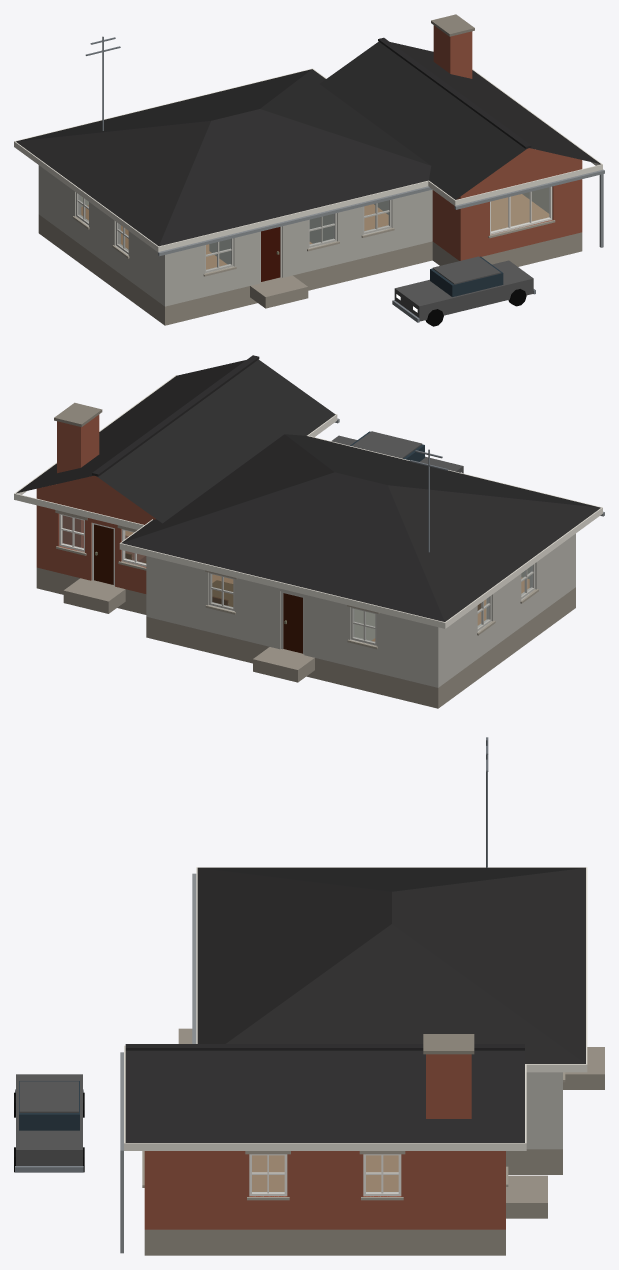
Rendered from ranch_c.glb.
The picture shows the model from 3 angles, top to bottom: view 1: azimuth 30°, elevation 25°; view 2: azimuth 150°, elevation 25°; view 3: azimuth 270°, elevation 25°; orthographic projection. The views are drawn at different scales.
Parts seen in each view (by area): view 1: LOD0, LEAF0; view 2: LOD0, LEAF1, LEAF2, FURN; view 3: LOD0.
Boxes of the visible parts, box(x1,y1,x2,y2) form: LOD0: box(14, 14, 604, 326); LEAF0: box(261, 227, 280, 281); LOD0: box(14, 355, 604, 708); LEAF1: box(283, 593, 302, 653); LEAF2: box(94, 524, 113, 584); FURN: box(125, 535, 481, 610); LOD0: box(14, 737, 604, 1255).
Size of what is drawn, in the model's own units: 17.22 by 8.19 by 15.53.
